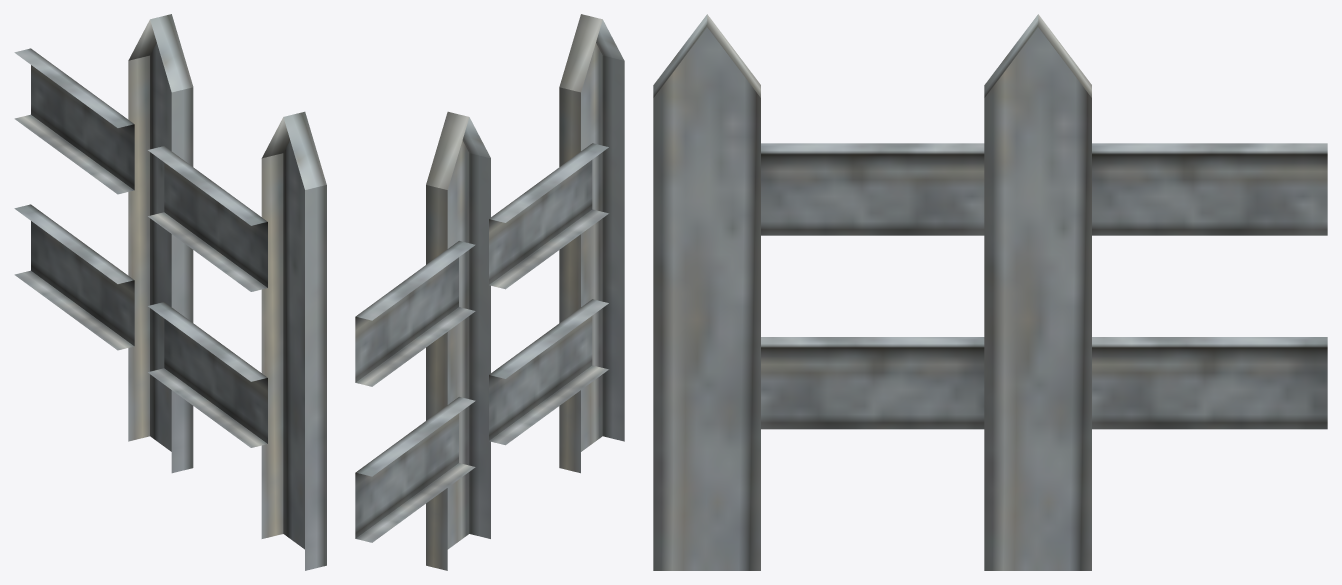
Rendered from Valla.fbx.
3 views of the same model, side by side, from view 1: azimuth 30°, elevation 25°; view 2: azimuth 150°, elevation 25°; view 3: azimuth 270°, elevation 25° (orthographic). The views are drawn at different scales.
Visible parts, largest first — view 1: pCube67; view 2: pCube67; view 3: pCube67.
Part boxes in pixels (x1,y1,x2,y2): pCube67: (14,14,326,570); pCube67: (355,14,624,570); pCube67: (653,14,1327,570).
Bounding box in the file's own units: 0.0617 × 0.6277 × 0.7053.
